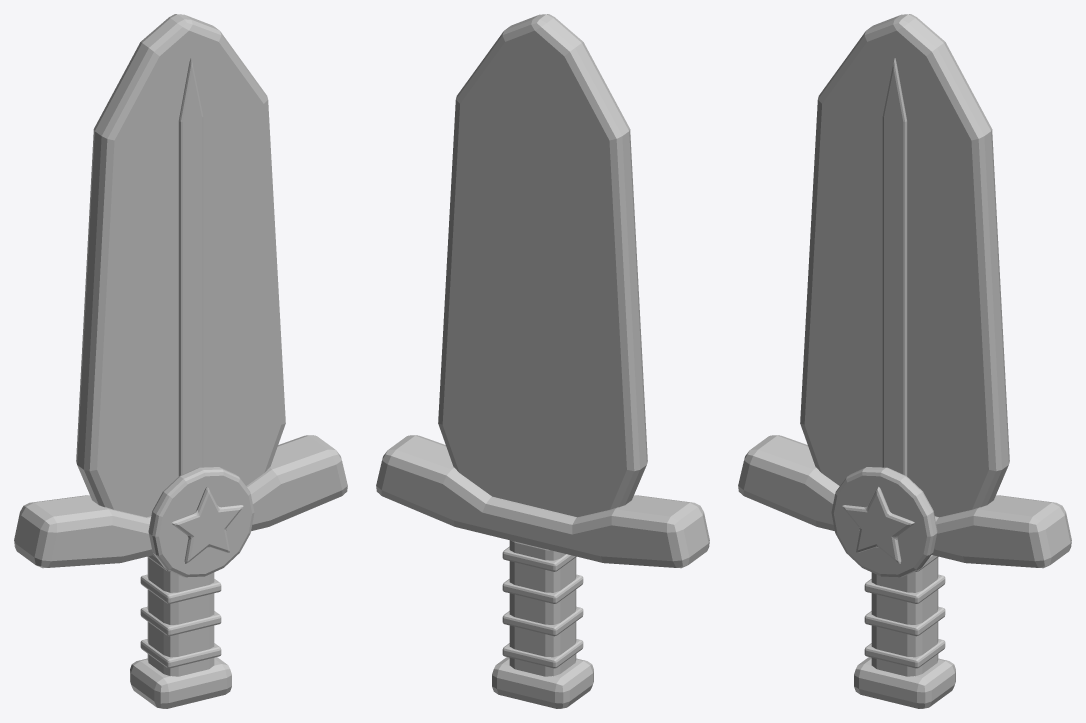
Rendered from BE_PowerMesh_MasterSword.fbx.
3 renders of one model, left to right at view 1: azimuth 30°, elevation 25°; view 2: azimuth 150°, elevation 25°; view 3: azimuth 330°, elevation 25°, orthographic.
Parts seen in each view (by area): view 1: BE_PowerMesh_MasterSword; view 2: BE_PowerMesh_MasterSword; view 3: BE_PowerMesh_MasterSword.
Part boxes in pixels (x1,y1,x2,y2): BE_PowerMesh_MasterSword: [14, 14, 347, 708]; BE_PowerMesh_MasterSword: [376, 14, 709, 708]; BE_PowerMesh_MasterSword: [738, 14, 1071, 708].
Bounding box in the file's own units: 264 × 547 × 66.35.
1 material, 1 textured.
